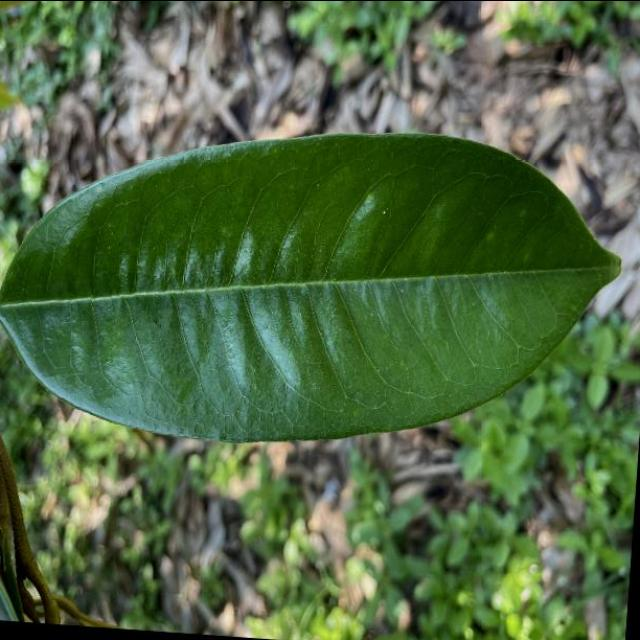No Disease: (0, 88, 635, 472)
